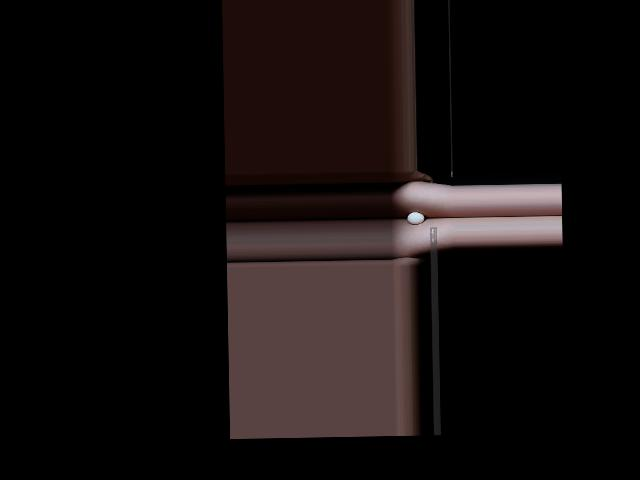egg: (407, 212, 424, 225)
